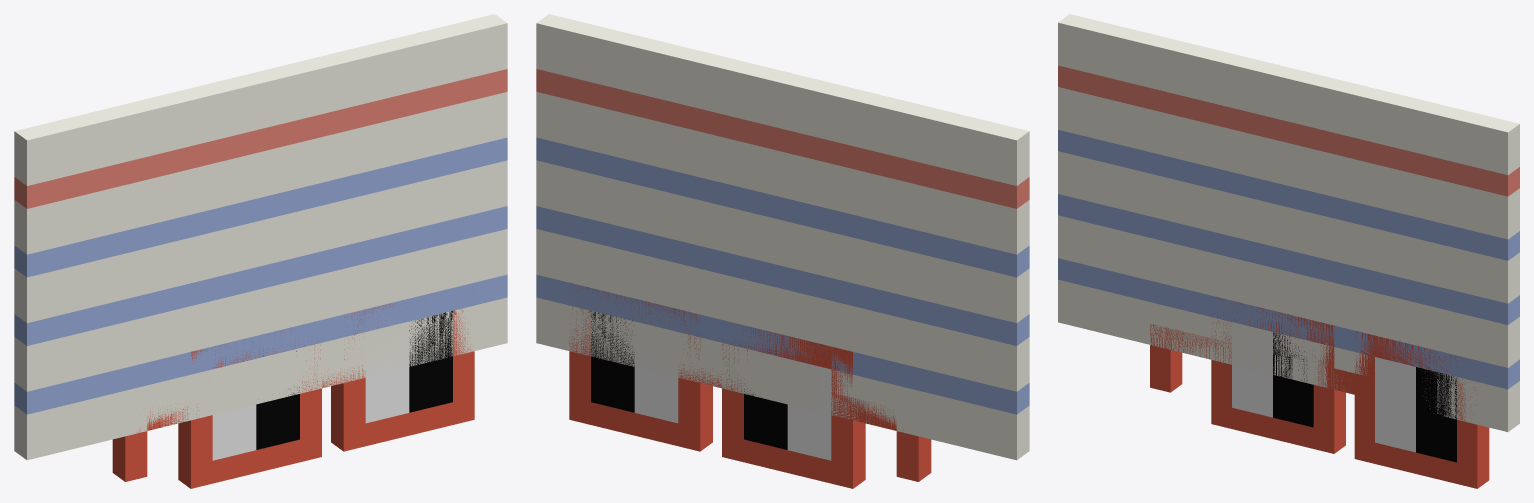
The model's file is indexcard.glb.
The picture shows the model from 3 angles, left to right: view 1: azimuth 30°, elevation 25°; view 2: azimuth 150°, elevation 25°; view 3: azimuth 330°, elevation 25°; orthographic projection. The views are drawn at different scales.
Visible parts, largest first — view 1: IndexCard, layer-1, layer-2; view 2: IndexCard, layer-1, layer-2; view 3: IndexCard, layer-1, layer-2.
Boxes of the visible parts, x1,y1,x2,y2 form: IndexCard: (14, 14, 507, 460); layer-1: (112, 297, 474, 488); layer-2: (212, 311, 452, 460); IndexCard: (536, 14, 1029, 460); layer-1: (569, 282, 931, 488); layer-2: (591, 311, 831, 460); IndexCard: (1058, 14, 1519, 431); layer-1: (1150, 297, 1489, 488); layer-2: (1232, 324, 1456, 462).
Bounding box in the file's own units: 22 × 17 × 1.
Materials: 7 (7 with a texture image).
